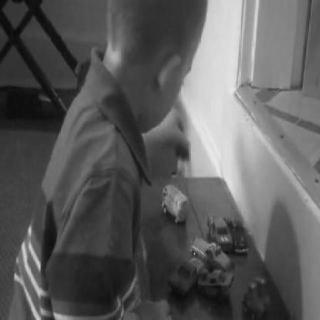other: (188, 231, 238, 295)
